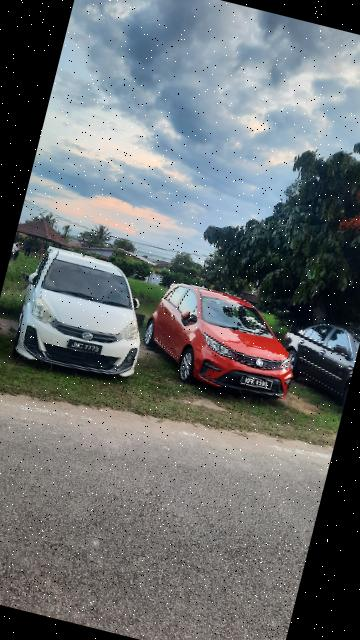License_Plate: (66, 338, 106, 358), (240, 375, 275, 395)
car: (137, 276, 312, 410), (10, 243, 162, 388)
